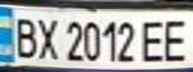0: (81, 17, 103, 63)
1: (100, 17, 121, 63)
2: (60, 16, 84, 63), (115, 17, 139, 64)
B: (9, 12, 42, 60)
E: (157, 15, 193, 63), (136, 16, 172, 64)
X: (33, 14, 60, 61)
